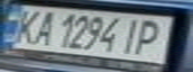1: (51, 10, 75, 48)
2: (69, 11, 90, 51)
4: (96, 15, 127, 54)
9: (84, 12, 106, 52)
A: (27, 8, 60, 47)
I: (115, 16, 151, 55)
K: (6, 7, 45, 45)
P: (130, 17, 178, 56)
